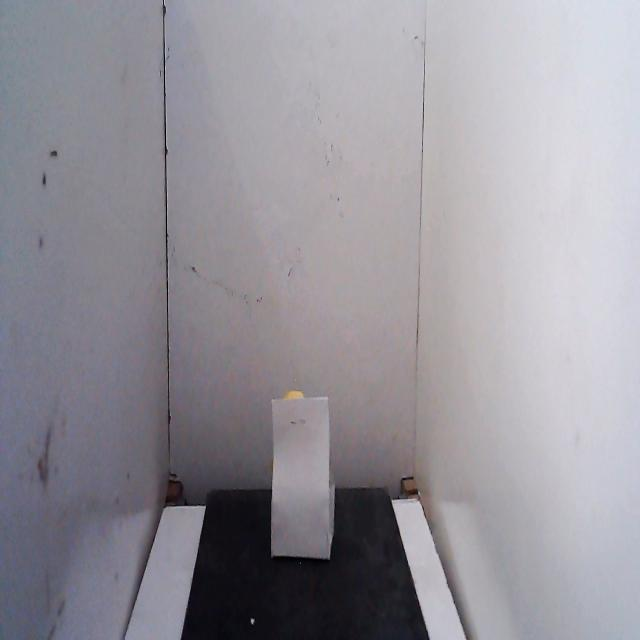paper: (257, 375, 350, 584)
